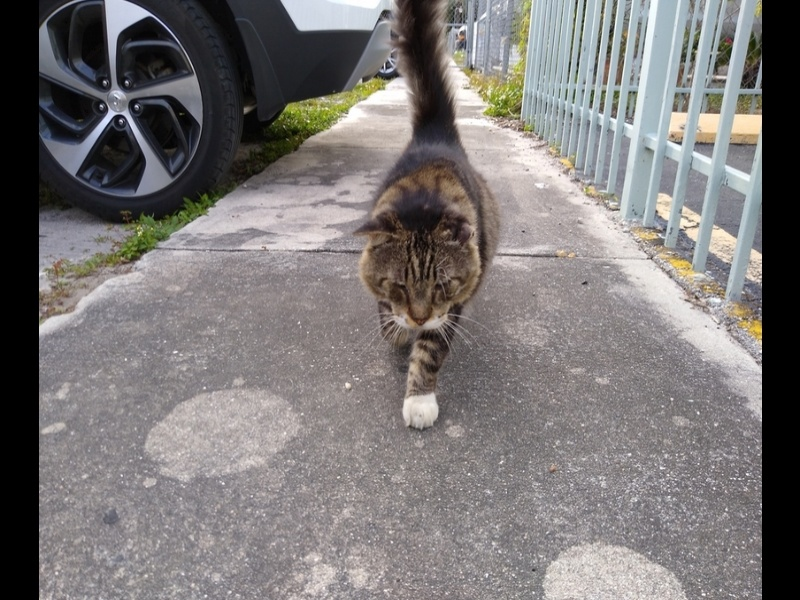cat: (357, 1, 506, 433)
